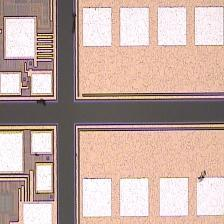PO CONTAMINATION: (34, 13, 210, 201)
